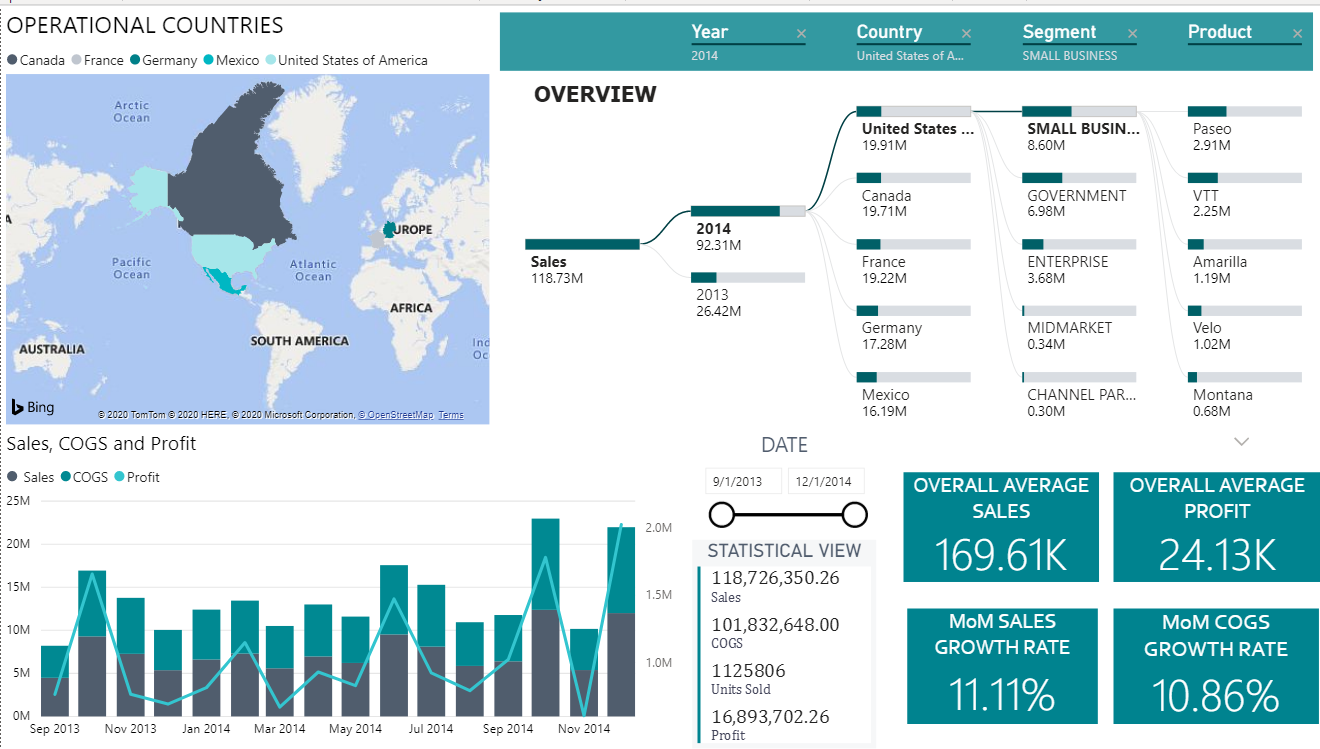

This screenshot's page, from the dashboard's own definition file:
{"tool":"powerbi","page":{"name":"OVERALL HEALTH","canvas":[1280,720],"ordinal":0},"visuals":[{"type":"card","title":"OVERALL AVERAGE SALES","fields":{"Values":["Avg(financials. Sales)"]},"box":[875.6,452.3,189.3,106.1],"z":0},{"type":"card","title":"OVERALL AVERAGE PROFIT","fields":{"Values":["Avg(financials.Profit)"]},"box":[1078.2,452.3,201.4,106.1],"z":1000},{"type":"card","title":"MoM SALES GROWTH RATE","fields":{"Values":["financials.Sale Price MoM%"]},"box":[879.2,583.7,184.5,112.2],"z":2000},{"type":"filledMap","title":"OPERATIONAL COUNTRIES","fields":{"Category":["financials.Country"],"Series":["financials.Country"]},"box":[0,1.2,478.8,410.1],"z":3000},{"type":"textbox","box":[482.4,66.3,188.1,39.8],"z":4000},{"type":"multiRowCard","title":"STATISTICAL VIEW","fields":{"Values":["Sum(financials. Sales)","Sum(financials.COGS)","Sum(financials.Units Sold)","Sum(financials.Profit)"]},"box":[670.6,517.4,178.5,202.6],"z":5000},{"type":"slicer","title":"DATE","fields":{"Values":["financials.Date"]},"box":[670.6,411.3,178.5,97.7],"z":6000},{"type":"lineStackedColumnComboChart","title":"Sales, COGS and Profit","fields":{"Category":["financials.Date"],"Y":["Sum(financials. Sales)","Sum(financials.COGS)"],"Y2":["Sum(financials.Profit)"]},"box":[0,411.3,657.3,308.7],"z":7000},{"type":"decompositionTreeVisual","fields":{"ExplainBy":["financials.Year","financials.Country","financials.Segment","financials.Product"],"Analyze":["Sum(financials. Sales)"]},"box":[478.8,1.2,798.4,442.6],"z":8000},{"type":"card","title":"MoM COGS GROWTH RATE","fields":{"Values":["financials.COGS MoM%"]},"box":[1078.2,583.7,199,112.2],"z":9000}]}

Visuals, with their boxes in screenshot pixels (x1, y1, x2, y2), scaled from the page's 1280x720 canvas onto the 1320x749 screenshot:
"OVERALL AVERAGE SALES" card: bbox=(903, 471, 1098, 581)
"OVERALL AVERAGE PROFIT" card: bbox=(1112, 471, 1319, 581)
"MoM SALES GROWTH RATE" card: bbox=(907, 607, 1097, 724)
"OPERATIONAL COUNTRIES" filledMap: bbox=(0, 1, 494, 428)
textbox: bbox=(497, 69, 691, 110)
"STATISTICAL VIEW" multiRowCard: bbox=(692, 538, 876, 748)
"DATE" slicer: bbox=(692, 428, 876, 530)
"Sales, COGS and Profit" lineStackedColumnComboChart: bbox=(0, 428, 678, 748)
decompositionTreeVisual - financials.Year x financials.Country: bbox=(494, 1, 1317, 462)
"MoM COGS GROWTH RATE" card: bbox=(1112, 607, 1317, 724)
